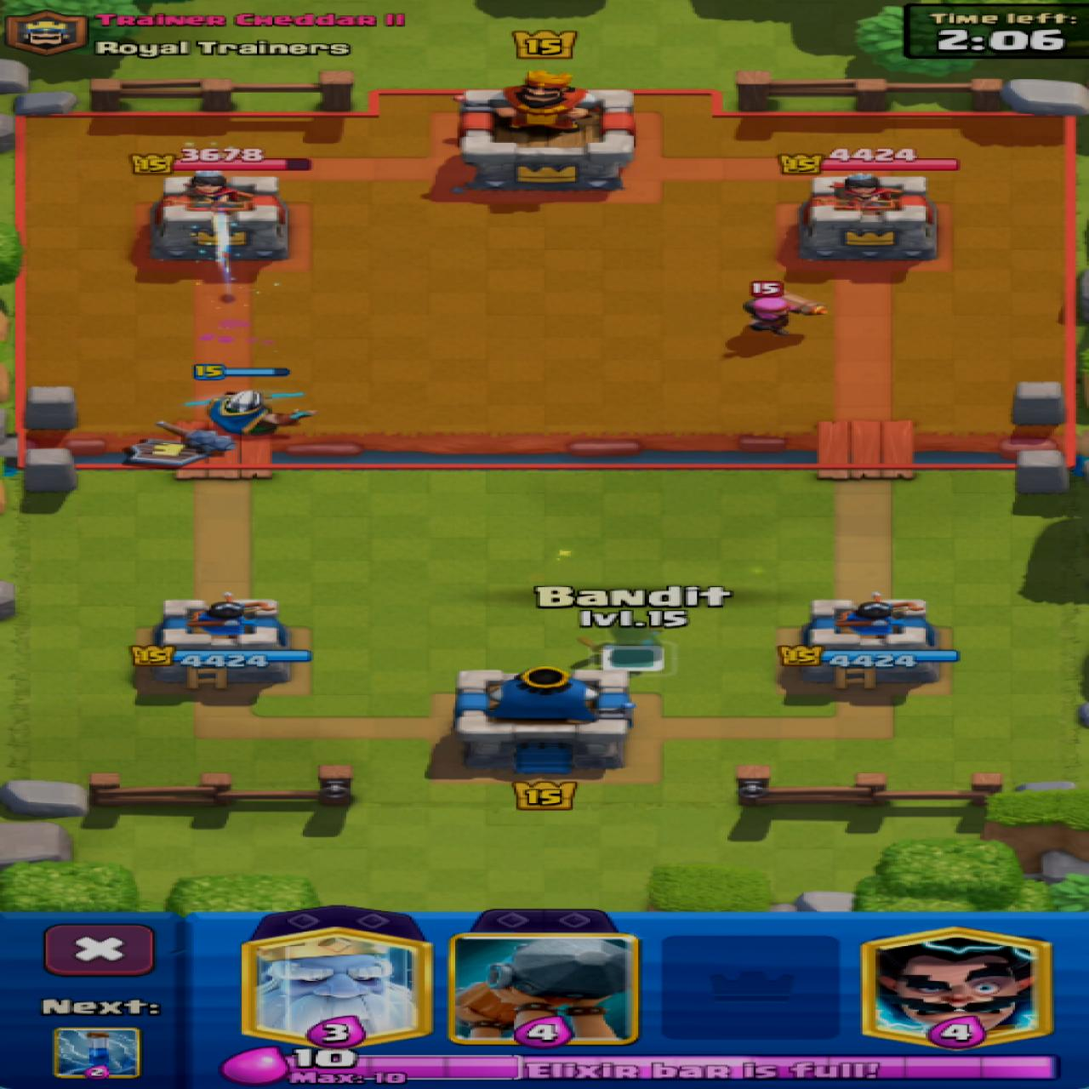Enemy-Firecracker: (741, 293, 831, 336)
Enemy-KingTower: (460, 72, 634, 192)
Enemy-PrincessTower: (148, 170, 294, 261), (797, 174, 937, 261)
